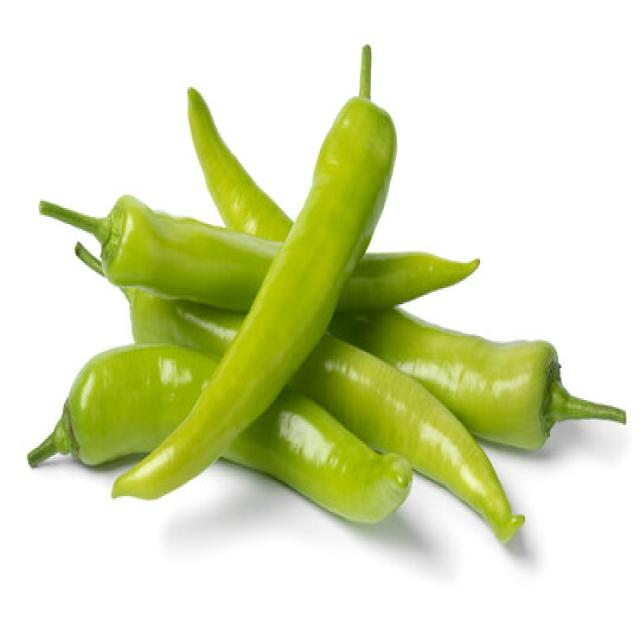Chilli: (110, 43, 401, 517), (28, 340, 412, 522), (38, 192, 480, 316), (289, 329, 525, 544), (185, 84, 294, 244)
